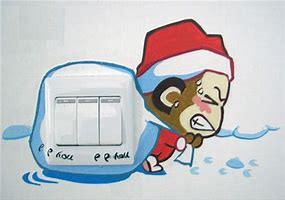switch: (96, 94, 125, 148), (52, 93, 80, 148), (75, 93, 102, 148)
